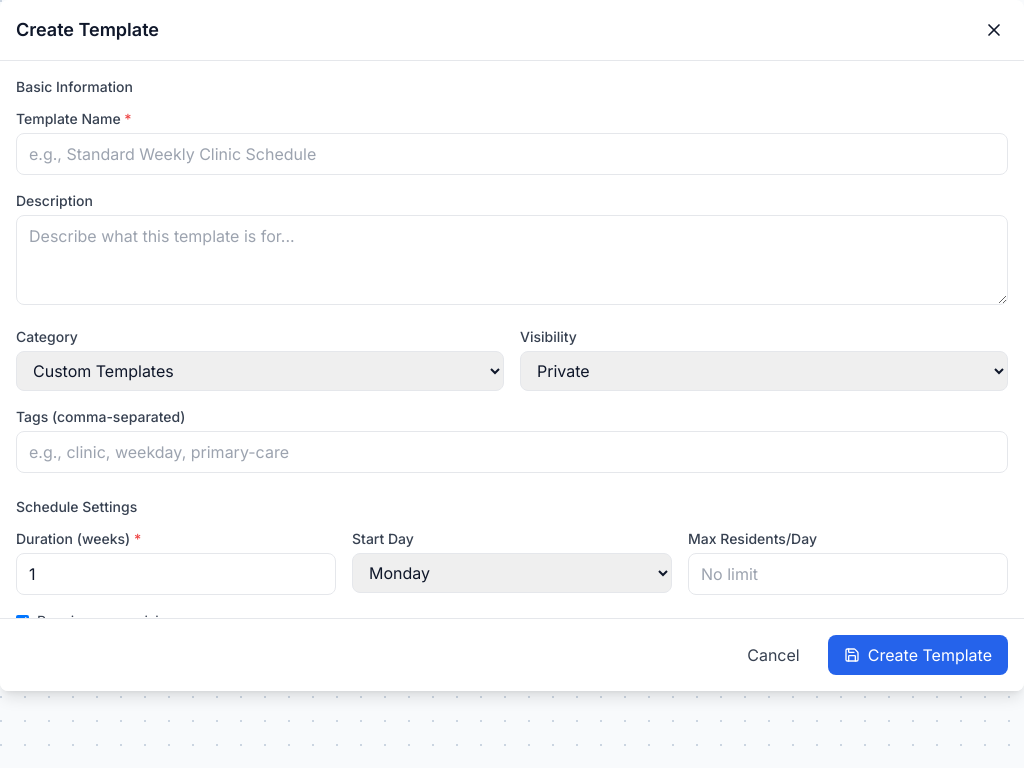
TemplateEditor › should validate required fields
This screenshot has width=1024, height=768.
# Find the submit button by role and type
Click the button with aria-label "Create new template" at x=918, y=655, box [828,635,1008,675]
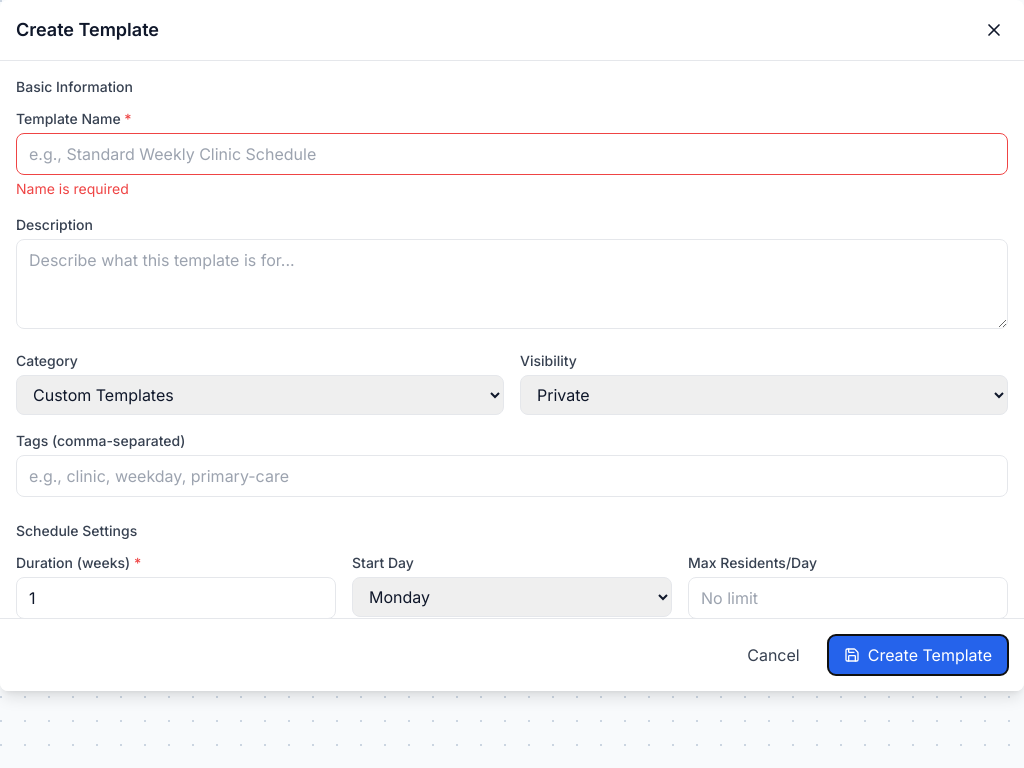
Result: the text "Name is required" is shown at [16,180,129,197]
